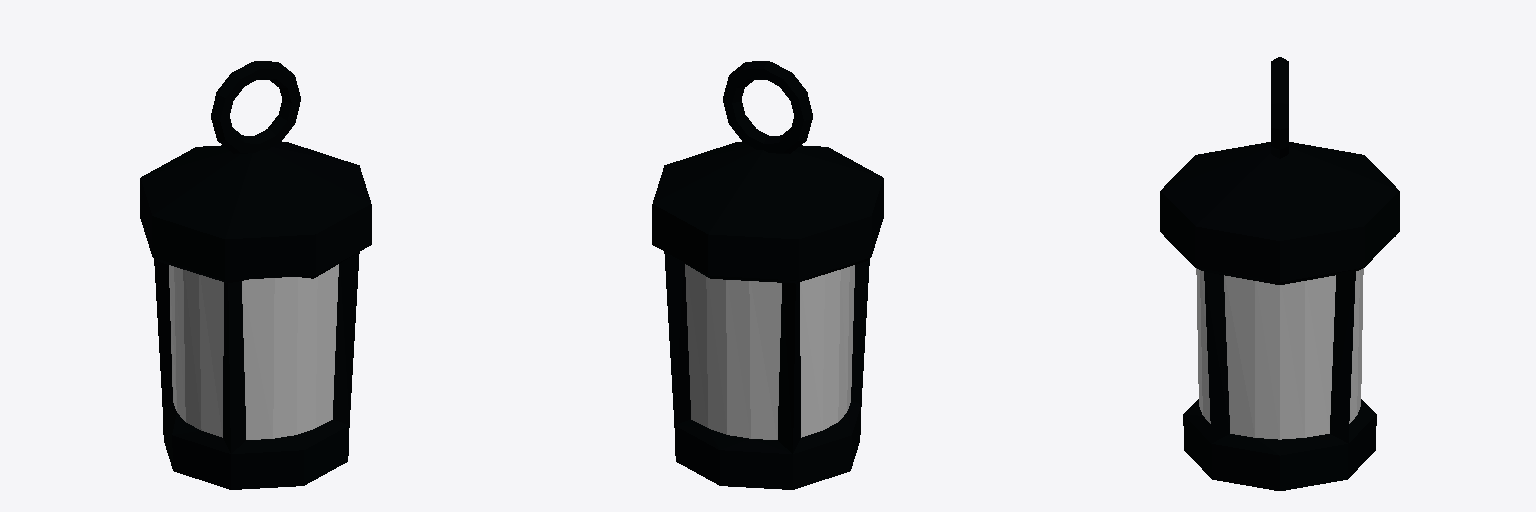
The model's file is lantern.obj.
3 views of the same model, side by side, from view 1: azimuth 30°, elevation 25°; view 2: azimuth 150°, elevation 25°; view 3: azimuth 270°, elevation 25° (orthographic).
Parts seen in each view (by area): view 1: lantern_Cylinder.044; view 2: lantern_Cylinder.044; view 3: lantern_Cylinder.044.
Boxes of the visible parts, box(x1,y1,x2,y2) form: lantern_Cylinder.044: box(140, 61, 371, 489); lantern_Cylinder.044: box(652, 61, 883, 489); lantern_Cylinder.044: box(1160, 57, 1399, 490).
Bounding box in the file's own units: 0.4813 × 0.8663 × 0.4813.